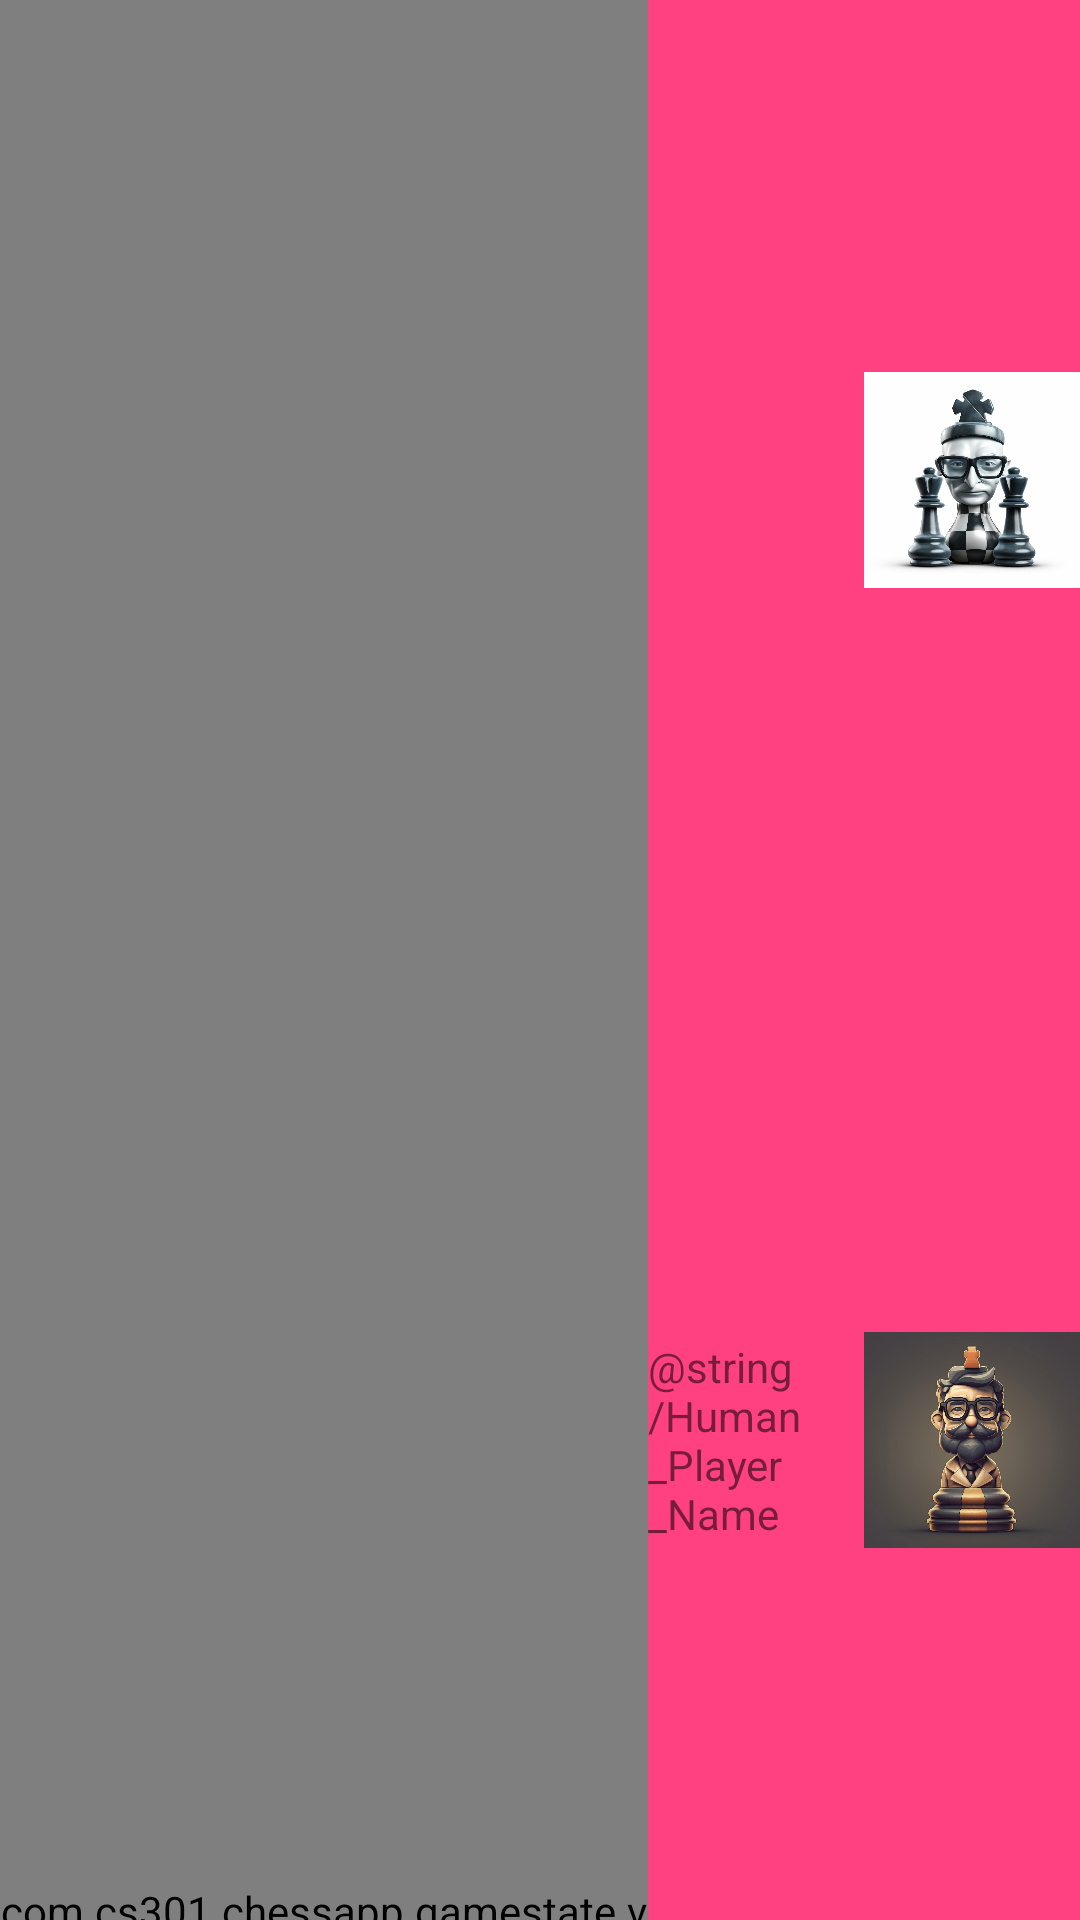

Icons on this 1080px×1920px Android screen, each with its box as (x1, y1, x2, y2):
chess av: (864, 372, 1080, 588), (864, 1332, 1080, 1548)
